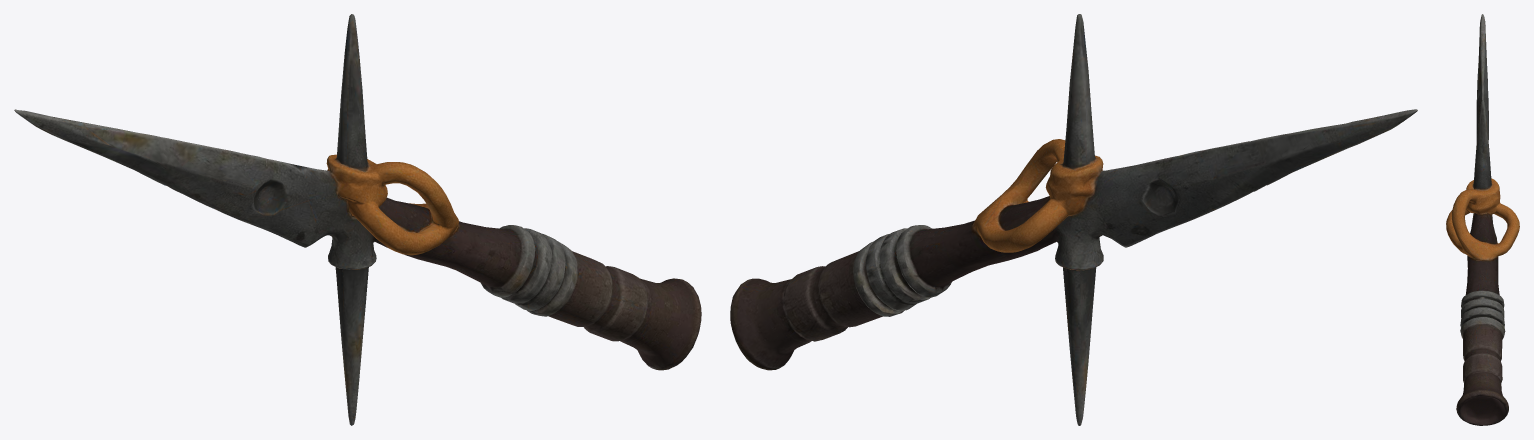
File: shiv.glb
The picture shows the model from 3 angles, left to right: view 1: azimuth 30°, elevation 25°; view 2: azimuth 150°, elevation 25°; view 3: azimuth 270°, elevation 25°; orthographic projection. The views are drawn at different scales.
Parts seen in each view (by area): view 1: Mesh_0; view 2: Mesh_0; view 3: Mesh_0.
Part boxes in pixels (box(x1,y1,x2,y2)): Mesh_0: box(14, 14, 701, 425); Mesh_0: box(730, 14, 1417, 425); Mesh_0: box(1446, 14, 1519, 425).
Size of the model in its own units: 1.9 by 1.14 by 0.3154.
1 material, 1 textured.
